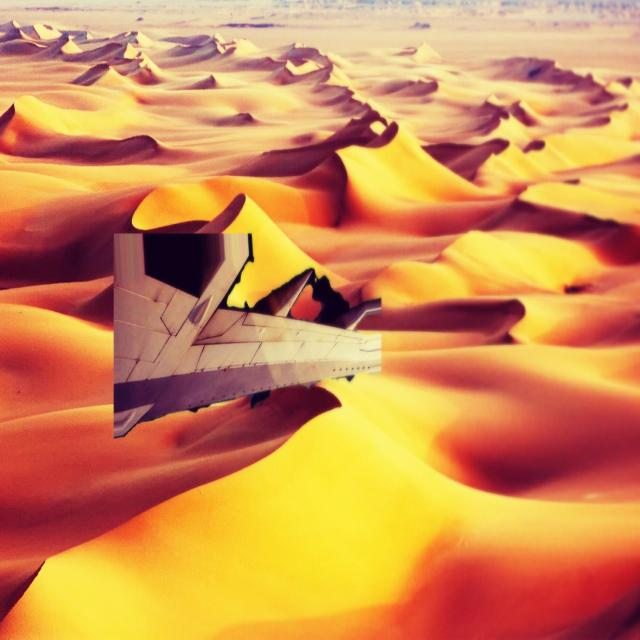airplane: (113, 232, 381, 438)
